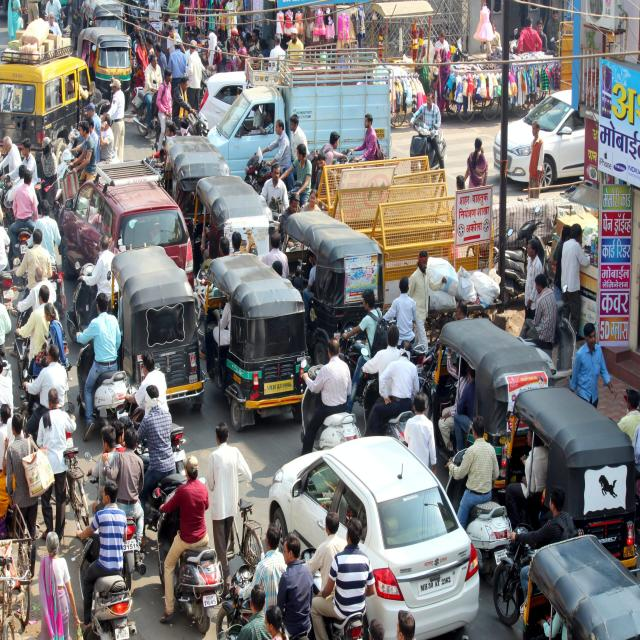autorickshaw: (505, 388, 636, 568), (204, 253, 306, 431), (431, 319, 554, 457), (282, 212, 384, 364), (109, 246, 205, 405), (521, 536, 640, 639), (194, 176, 276, 260), (78, 28, 131, 106)
car: (269, 437, 479, 637), (59, 161, 192, 280), (0, 56, 109, 161), (508, 90, 585, 187)
motorcycle: (158, 456, 224, 634), (446, 416, 511, 583), (76, 480, 136, 639), (76, 292, 128, 440), (361, 326, 419, 442), (301, 339, 360, 453), (410, 92, 446, 169), (506, 206, 544, 250), (505, 250, 528, 307)
truck: (208, 49, 390, 178)
